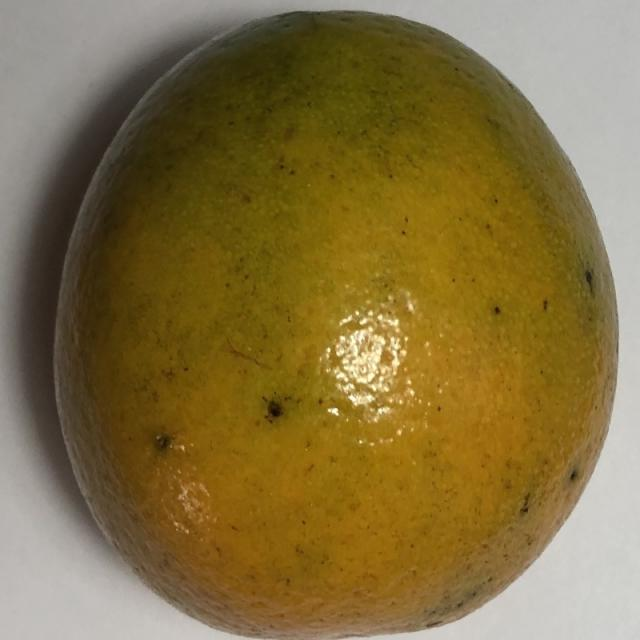blackspot: (16, 14, 634, 638)
